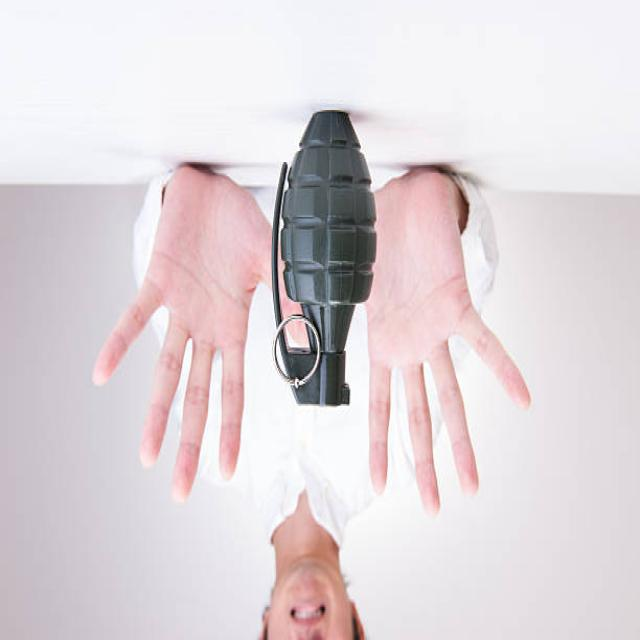grenade: (263, 103, 384, 418)
